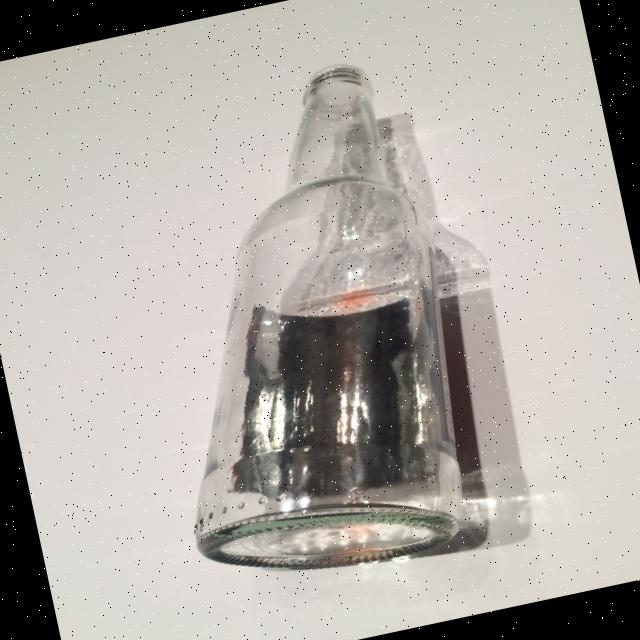glass: (102, 51, 498, 600)
